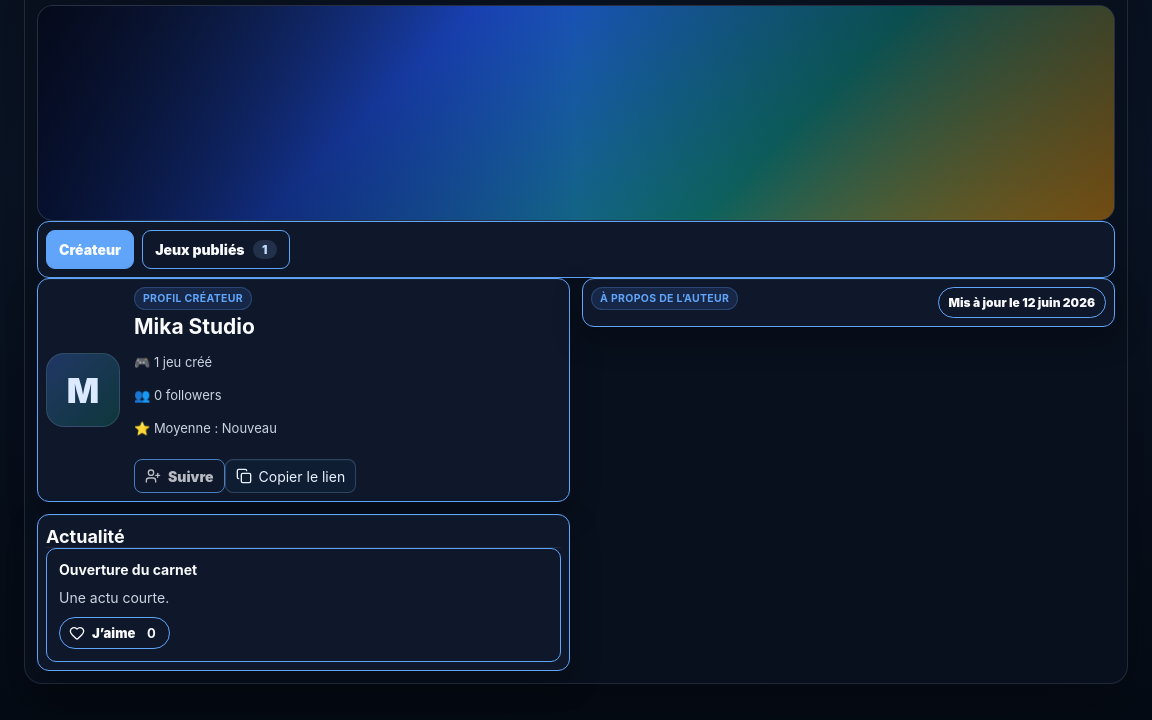
it: author profile media › permet de liker une actualite publique
The image size is (1152, 720).
(page scrolled)
Click the button with aria-label "Liker Ouverture du carnet" at coordinates (115, 633), box [59, 617, 170, 649]
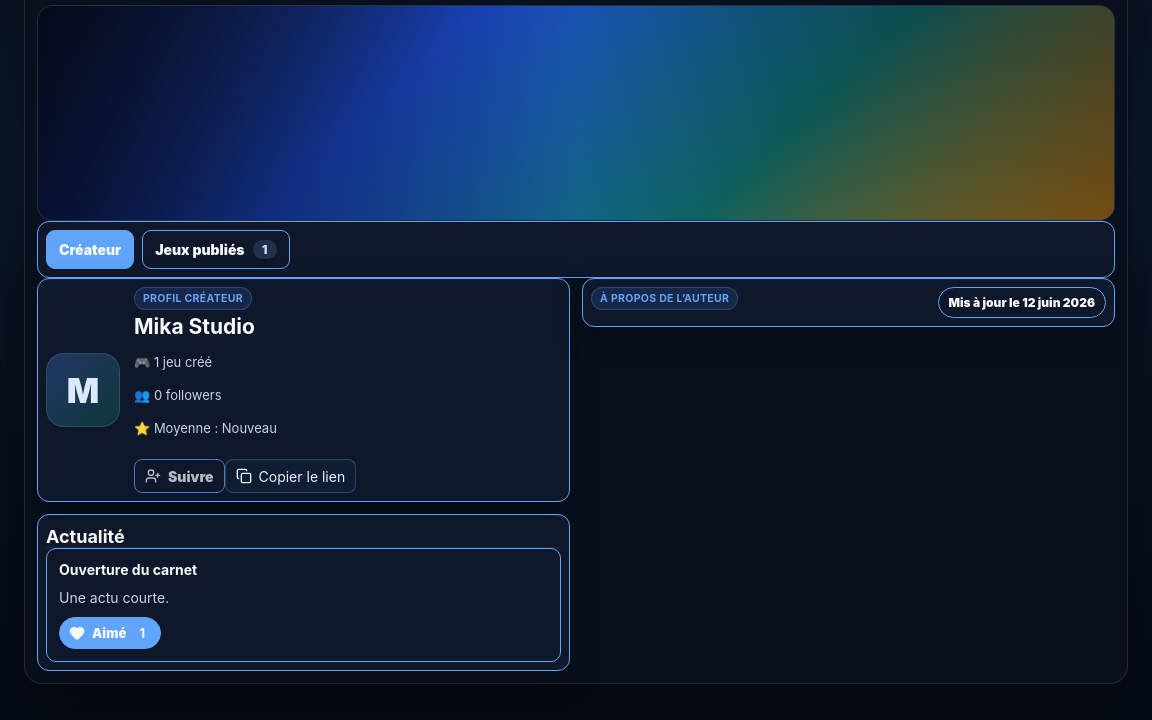
Now the button with aria-label "Retirer le like de Ouverture du carnet" shows "Aimé", box [59, 617, 161, 649]
Now the button with aria-label "Retirer le like de Ouverture du carnet" shows "1", box [59, 617, 161, 649]
